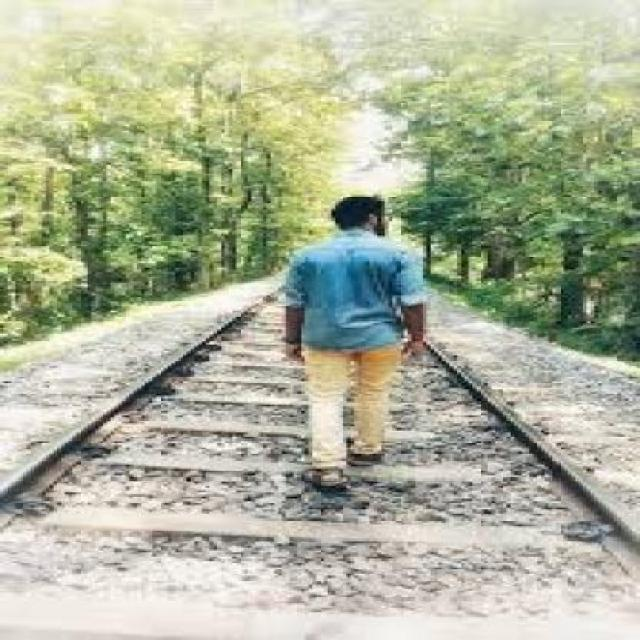people: (280, 186, 428, 484)
